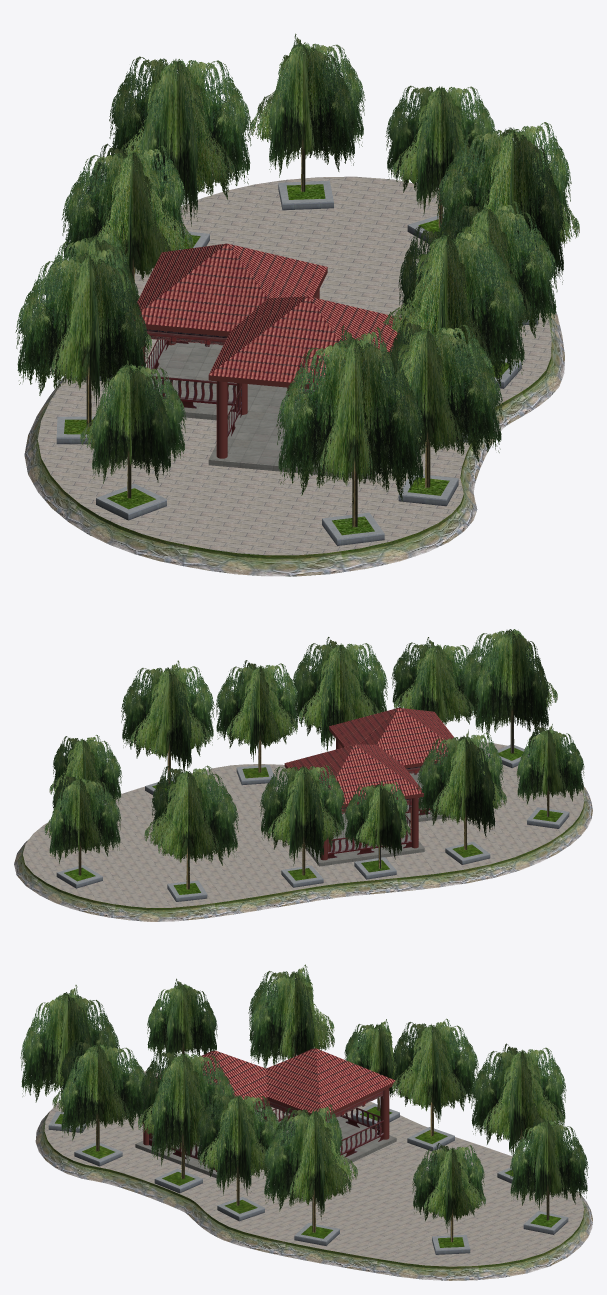
File: 湖中小亭.gltf
The picture shows the model from 3 angles, top to bottom: view 1: azimuth 30°, elevation 25°; view 2: azimuth 150°, elevation 25°; view 3: azimuth 270°, elevation 25°; orthographic projection. The views are drawn at different scales.
Visible parts, largest first — view 1: 对象003, 对象006, 对象009, 对象008, 对象001, 对象005, 对象004, 对象007, 对象, 对象002; view 2: 对象003, 对象006, 对象008, 对象009, 对象005, 对象004, 对象001, 对象007, 对象, 对象002; view 3: 对象003, 对象006, 对象008, 对象009, 对象005, 对象007, 对象001, 对象004, 对象, 对象002.
Boxes of the visible parts, left/top/right/bottom form: 对象003: left=15, top=33, right=579, bottom=527; 对象006: left=37, top=176, right=551, bottom=555; 对象009: left=134, top=243, right=401, bottom=384; 对象008: left=24, top=296, right=564, bottom=576; 对象001: left=146, top=339, right=376, bottom=479; 对象005: left=56, top=180, right=537, bottom=539; 对象004: left=64, top=184, right=522, bottom=535; 对象007: left=56, top=184, right=538, bottom=545; 对象: left=144, top=329, right=314, bottom=436; 对象002: left=141, top=268, right=397, bottom=458; 对象003: left=44, top=629, right=584, bottom=889; 对象006: left=23, top=742, right=584, bottom=907; 对象008: left=14, top=784, right=592, bottom=921; 对象009: left=285, top=708, right=453, bottom=804; 对象005: left=57, top=744, right=568, bottom=897; 对象004: left=64, top=748, right=562, bottom=894; 对象001: left=305, top=772, right=456, bottom=866; 对象007: left=56, top=754, right=569, bottom=901; 对象: left=328, top=764, right=440, bottom=858; 对象002: left=284, top=727, right=442, bottom=860; 对象003: left=20, top=964, right=588, bottom=1242; 对象006: left=44, top=1069, right=583, bottom=1266; 对象008: left=35, top=1111, right=592, bottom=1280; 对象009: left=149, top=1048, right=395, bottom=1113; 对象005: left=49, top=1069, right=567, bottom=1250; 对象007: left=48, top=1069, right=568, bottom=1254; 对象001: left=135, top=1115, right=396, bottom=1178; 对象004: left=55, top=1106, right=561, bottom=1247; 对象: left=149, top=1091, right=383, bottom=1169; 对象002: left=143, top=1082, right=396, bottom=1171.
Size of the model in its own units: 19.5 by 6.3 by 22.99.
Materials: 10 (9 with a texture image).
